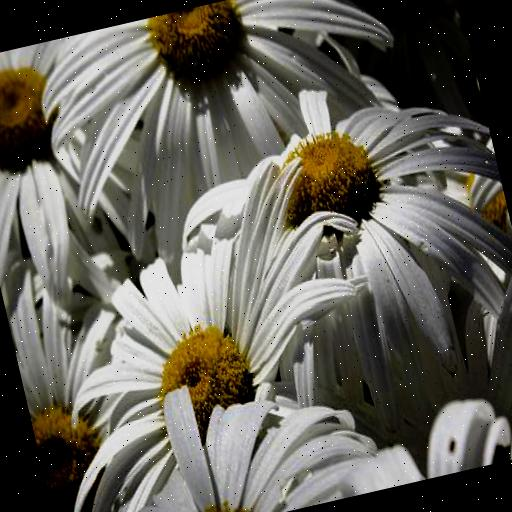daisy: (203, 91, 512, 372), (68, 233, 354, 447), (113, 383, 418, 512)
